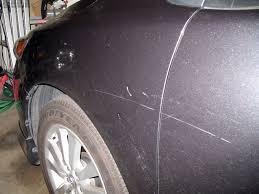fender-dent: (66, 15, 251, 162)
